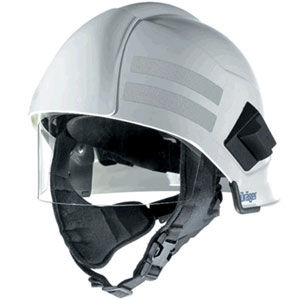helmet: (40, 1, 278, 224)
